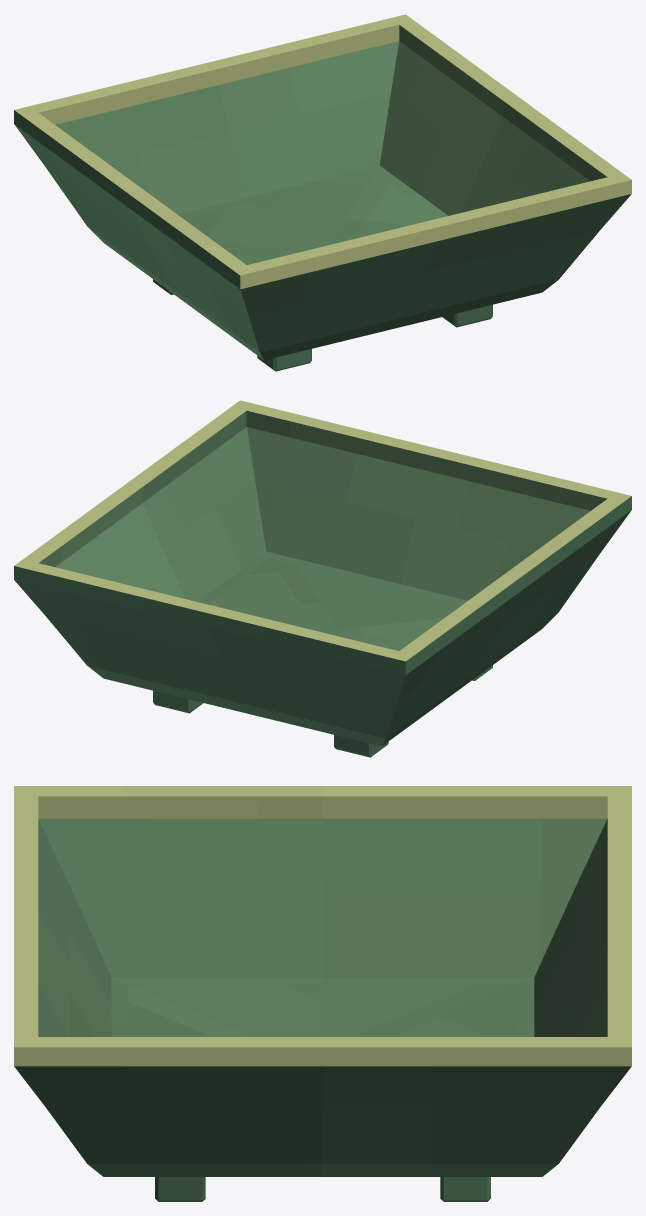
Rendered from vessel-mino.glb.
3 views of the same model, one above another, from view 1: azimuth 30°, elevation 25°; view 2: azimuth 150°, elevation 25°; view 3: azimuth 270°, elevation 25° (orthographic). The views are drawn at different scales.
Visible parts, largest first — view 1: vessel-mino/complete-inner-outer-shell-with-drainage, vessel-mino/short-solid-foot-1, vessel-mino/short-solid-foot-2; view 2: vessel-mino/complete-inner-outer-shell-with-drainage, vessel-mino/short-solid-foot-4, vessel-mino/short-solid-foot-3; view 3: vessel-mino/complete-inner-outer-shell-with-drainage, vessel-mino/short-solid-foot-2, vessel-mino/short-solid-foot-3.
Boxes of the visible parts, bbox=[...] form: vessel-mino/complete-inner-outer-shell-with-drainage: bbox=[14, 14, 631, 360]; vessel-mino/short-solid-foot-1: bbox=[257, 349, 311, 371]; vessel-mino/short-solid-foot-2: bbox=[442, 304, 492, 327]; vessel-mino/complete-inner-outer-shell-with-drainage: bbox=[14, 400, 631, 746]; vessel-mino/short-solid-foot-4: bbox=[334, 735, 388, 757]; vessel-mino/short-solid-foot-3: bbox=[153, 690, 203, 713]; vessel-mino/complete-inner-outer-shell-with-drainage: bbox=[14, 786, 631, 1176]; vessel-mino/short-solid-foot-2: bbox=[155, 1177, 205, 1201]; vessel-mino/short-solid-foot-3: bbox=[440, 1177, 490, 1201].
Bounding box in the file's own units: 0.354 × 0.135 × 0.354.
Materials: 1 (1 with a texture image).
